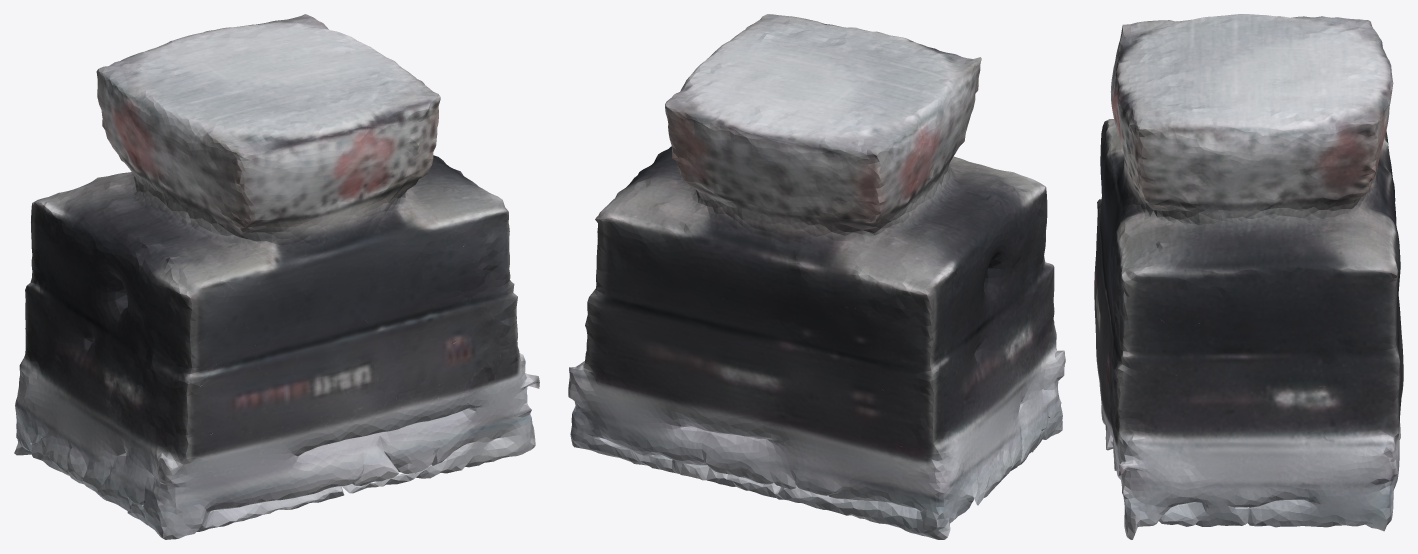
The model's file is ceramic_bowl.glb.
3 renders of one model, left to right at view 1: azimuth 30°, elevation 25°; view 2: azimuth 150°, elevation 25°; view 3: azimuth 270°, elevation 25°, orthographic. The views are drawn at different scales.
Bounding box in the file's own units: 0.6621 × 0.602 × 0.4409.
1 material, 1 textured.
